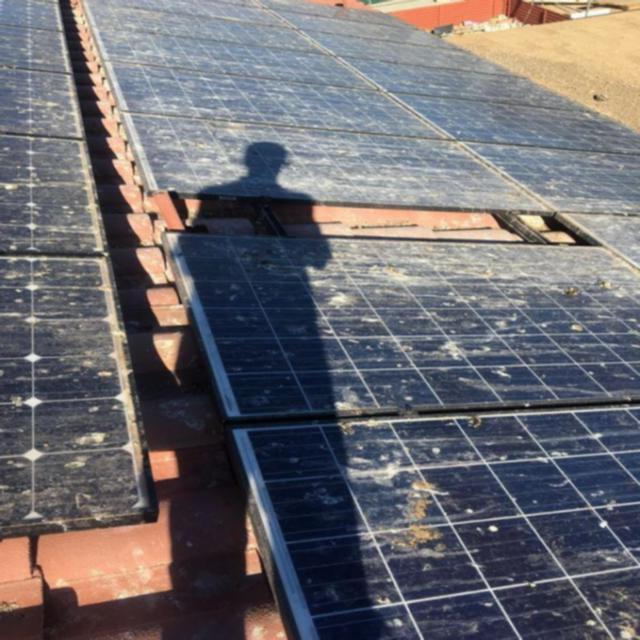soiled: (205, 219, 638, 640), (133, 3, 635, 199), (0, 1, 144, 568)
